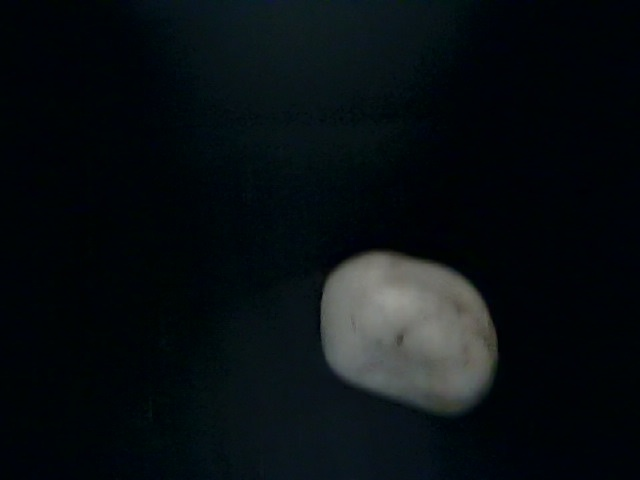QTLJ: (327, 308, 528, 480)
